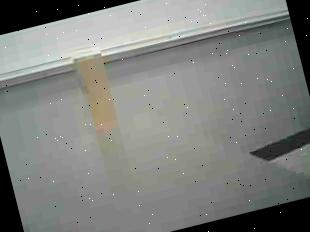Bottle A: (60, 35, 134, 150)
